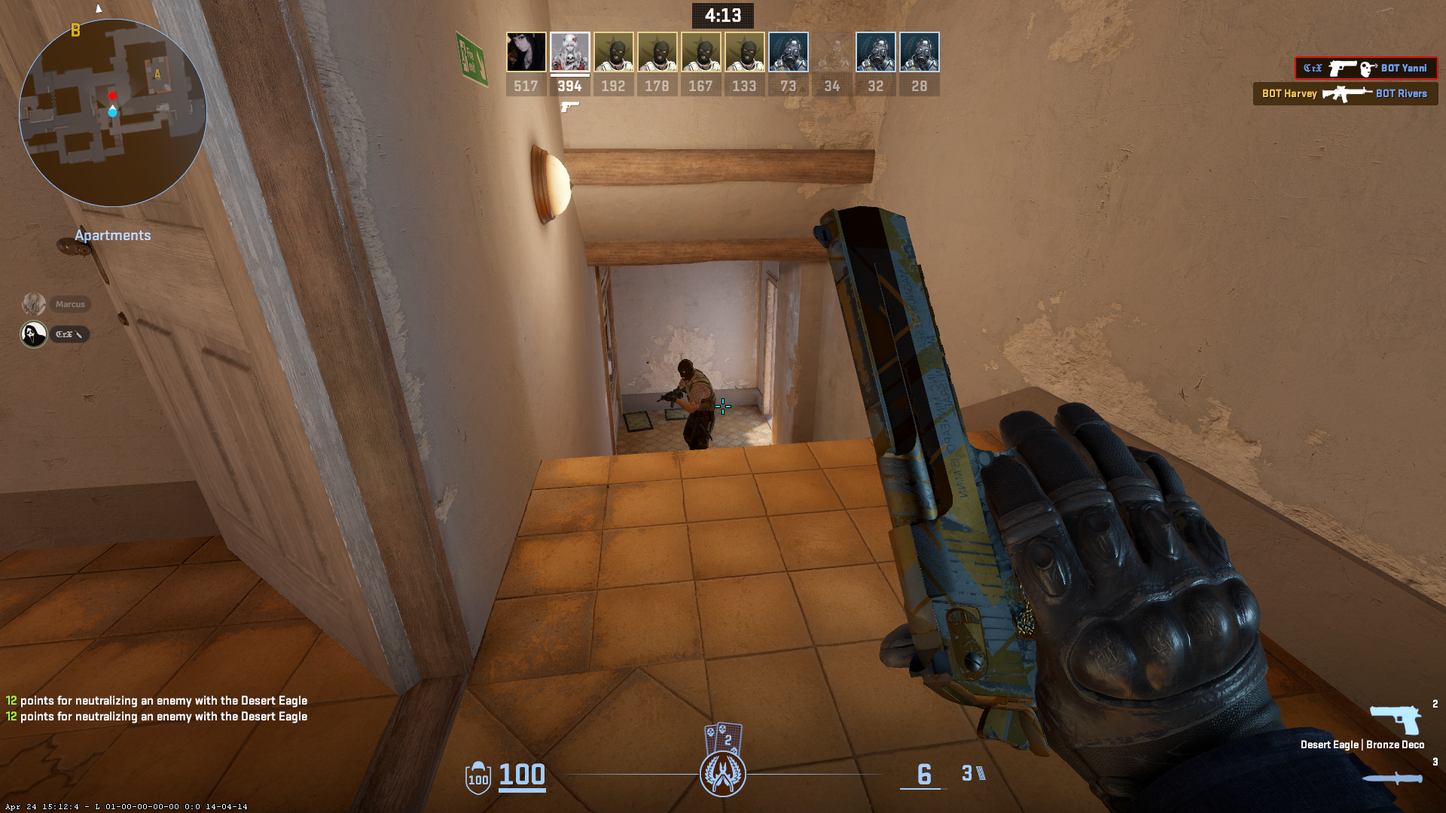T: (674, 361, 715, 449)
